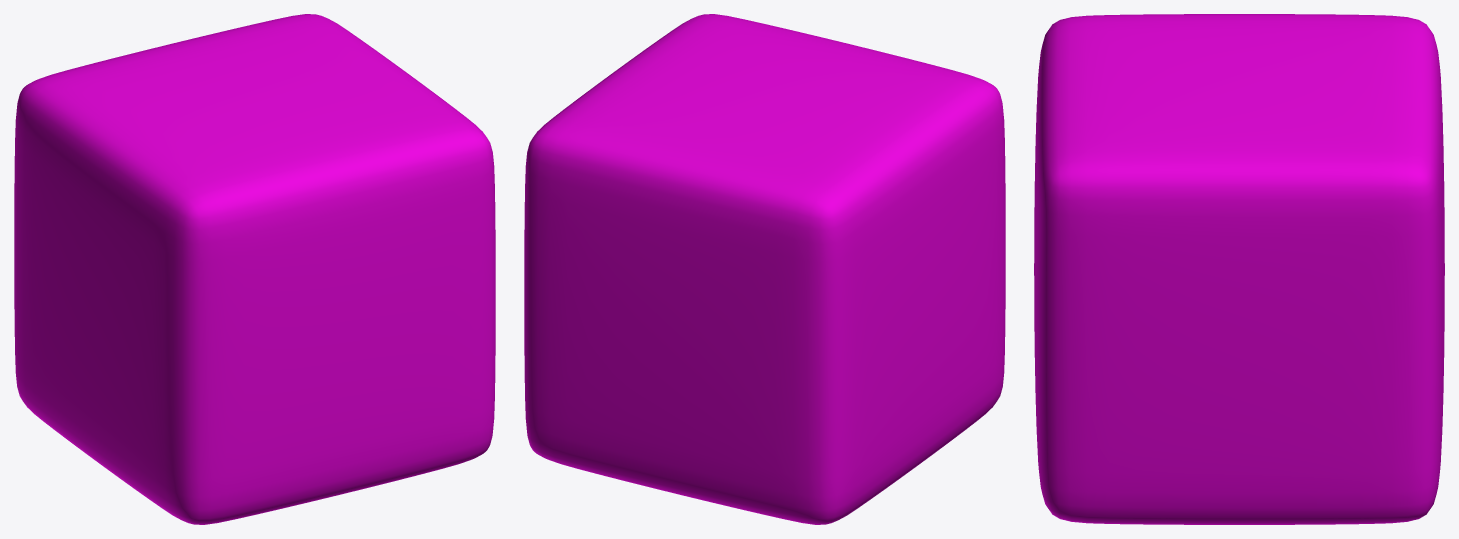
The picture shows the model from 3 angles, left to right: view 1: azimuth 30°, elevation 25°; view 2: azimuth 150°, elevation 25°; view 3: azimuth 270°, elevation 25°; orthographic projection. The views are drawn at different scales.
Visible parts, largest first — view 1: Cube; view 2: Cube; view 3: Cube.
Boxes of the visible parts, box(x1,y1,x2,y2) form: Cube: box(14, 14, 495, 524); Cube: box(524, 14, 1005, 524); Cube: box(1034, 14, 1444, 524).
Size of the model in its own units: 1.99 by 1.99 by 1.99.
